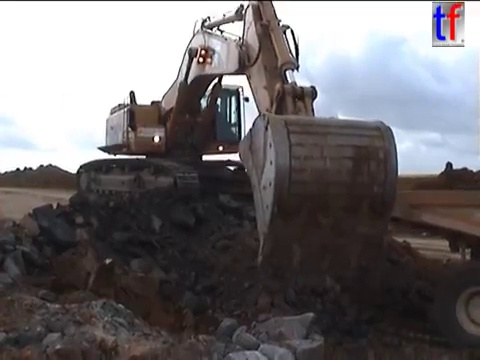excavator: (73, 1, 402, 281)
truck: (334, 183, 480, 353)
